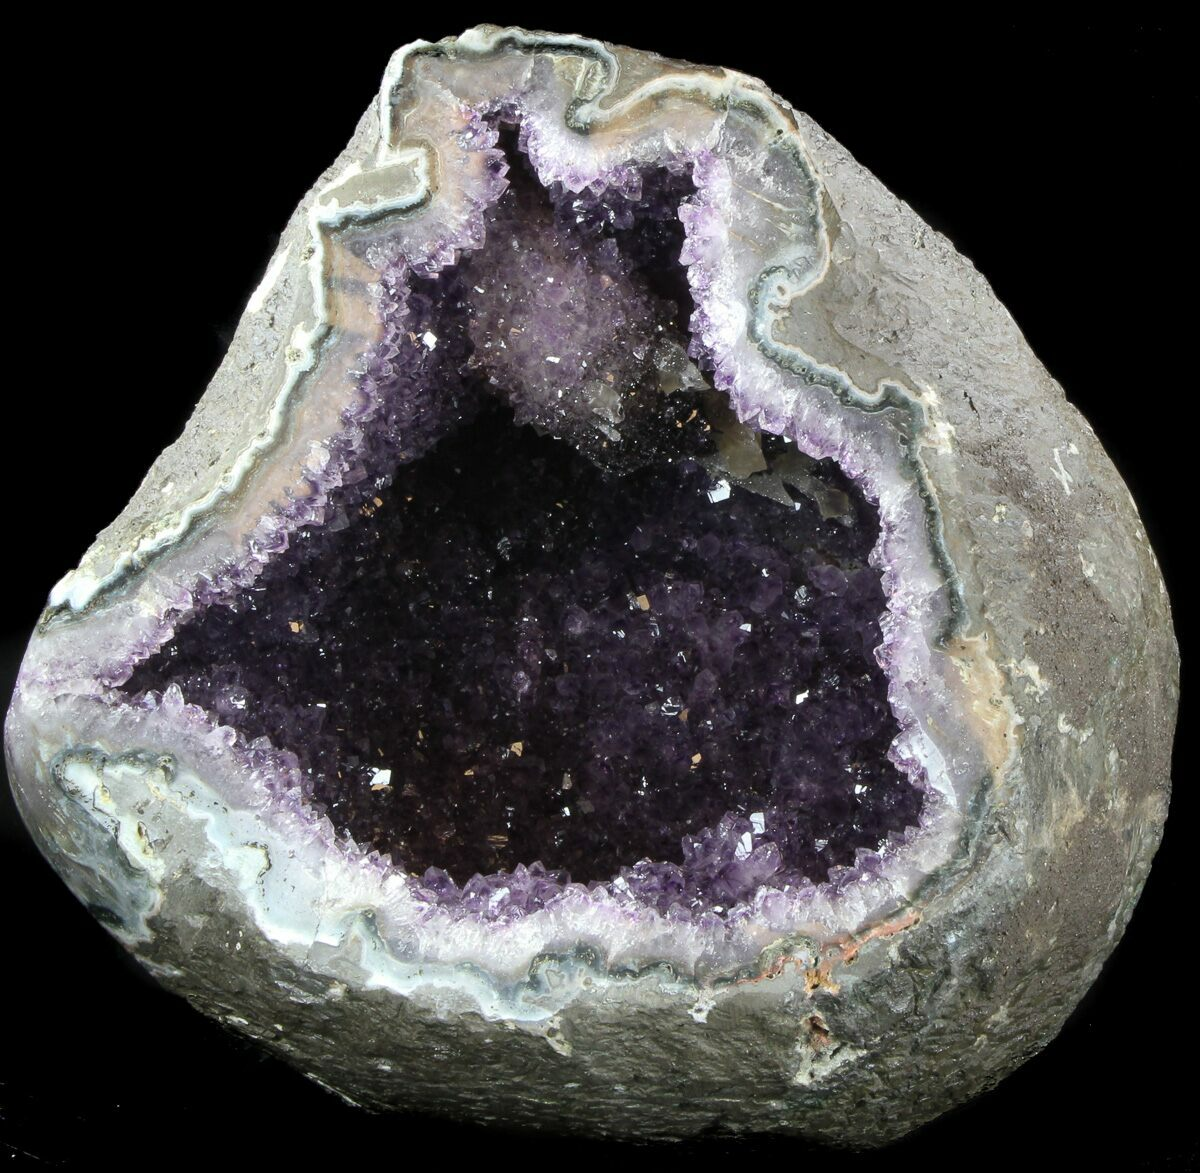Amethyst: (114, 97, 977, 940)
